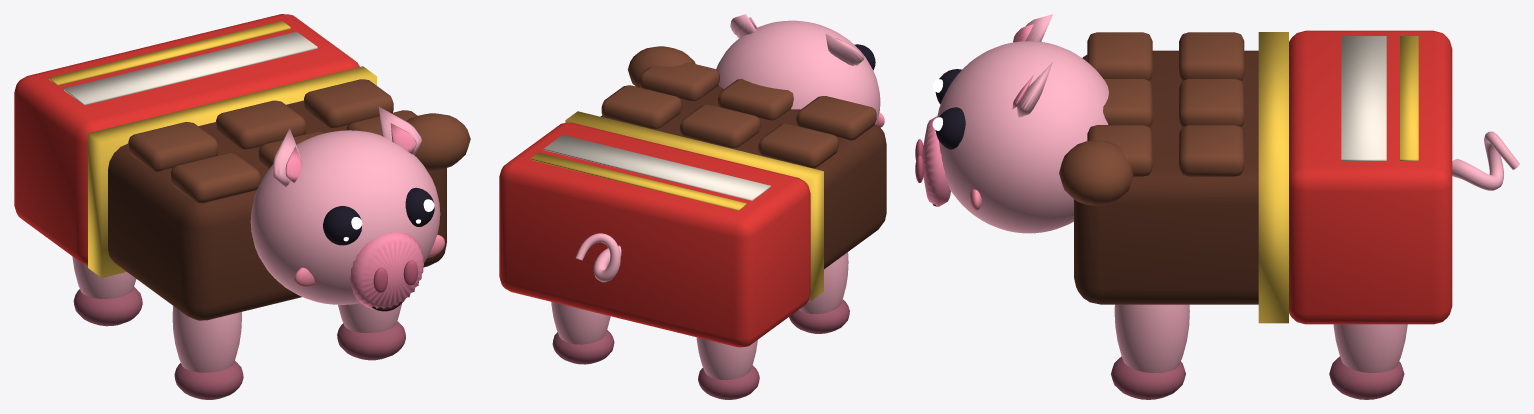
The model's file is pilot_gris_sjoko.glb.
3 views of the same model, side by side, from view 1: azimuth 30°, elevation 25°; view 2: azimuth 150°, elevation 25°; view 3: azimuth 270°, elevation 25° (orthographic). The views are drawn at different scales.
Parts seen in each view (by area): view 1: kropp, hode, bein_vf, bein_vb, bein_hf; view 2: kropp, hode, bein_vb, bein_hb, bein_vf, hale; view 3: kropp, hode, bein_hf, bein_hb, hale.
Part boxes in pixels (bbox=[...]): kropp: bbox=[14, 14, 470, 320]; hode: bbox=[250, 107, 444, 311]; bein_vf: bbox=[172, 306, 243, 399]; bein_vb: bbox=[72, 256, 142, 326]; bein_hf: bbox=[337, 303, 405, 360]; kropp: bbox=[499, 46, 886, 347]; hode: bbox=[716, 14, 884, 127]; bein_vb: bbox=[696, 337, 759, 399]; bein_hb: bbox=[551, 302, 614, 364]; bein_vf: bbox=[789, 252, 849, 333]; hale: bbox=[575, 233, 621, 282]; kropp: bbox=[1059, 30, 1452, 324]; hode: bbox=[915, 14, 1108, 233]; bein_hf: bbox=[1111, 304, 1189, 399]; bein_hb: bbox=[1329, 324, 1407, 399]; hale: bbox=[1452, 131, 1519, 190].
Bounding box in the file's own units: 0.979 × 0.9205 × 1.61.
